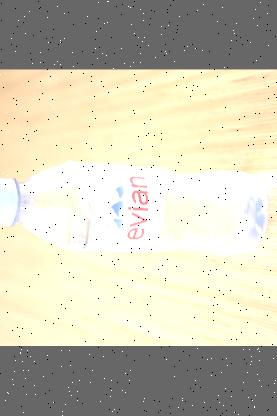Plastic Bottle: (0, 160, 268, 254)
